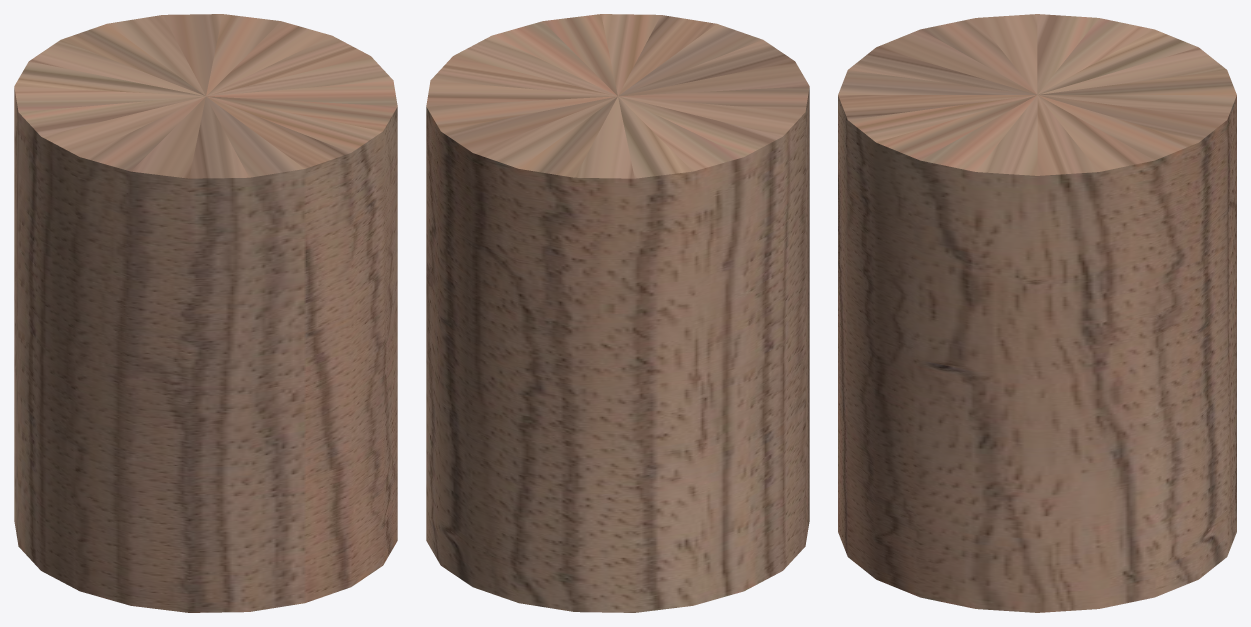
File: log.fbx
3 renders of one model, left to right at view 1: azimuth 30°, elevation 25°; view 2: azimuth 150°, elevation 25°; view 3: azimuth 270°, elevation 25°, orthographic.
Visible parts, largest first — view 1: obj1; view 2: obj1; view 3: obj1.
Part boxes in pixels (box(x1,y1,x2,y2)): obj1: box(14, 14, 397, 612); obj1: box(426, 14, 809, 612); obj1: box(838, 14, 1236, 612).
Bounding box in the file's own units: 140 × 176 × 145.
Materials: 1 (1 with a texture image).
